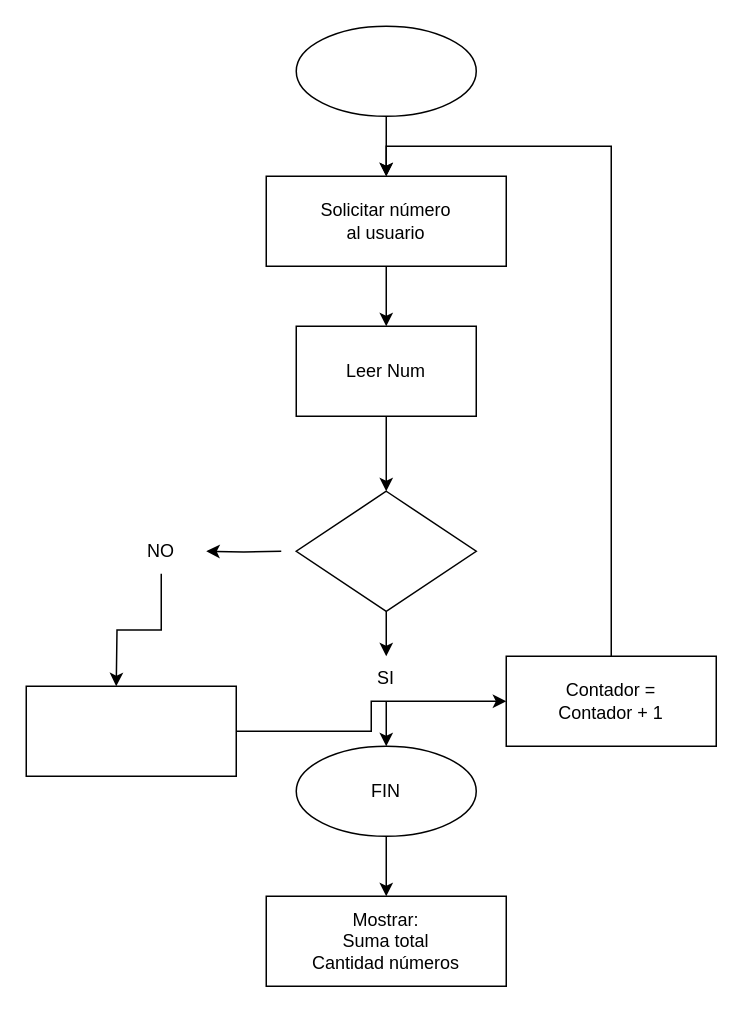
The diagram is 743 pixels wide and 1013 high, and some of its shapes have lost their labels. Each missing label, with the centre of its shape:
"INICIO" belongs at point (385, 70).
"Suma = Suma + Num" belongs at point (130, 730).
"¿Num = 0?" belongs at point (385, 550).
